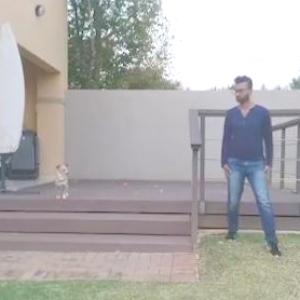follow: (220, 69, 274, 264)
